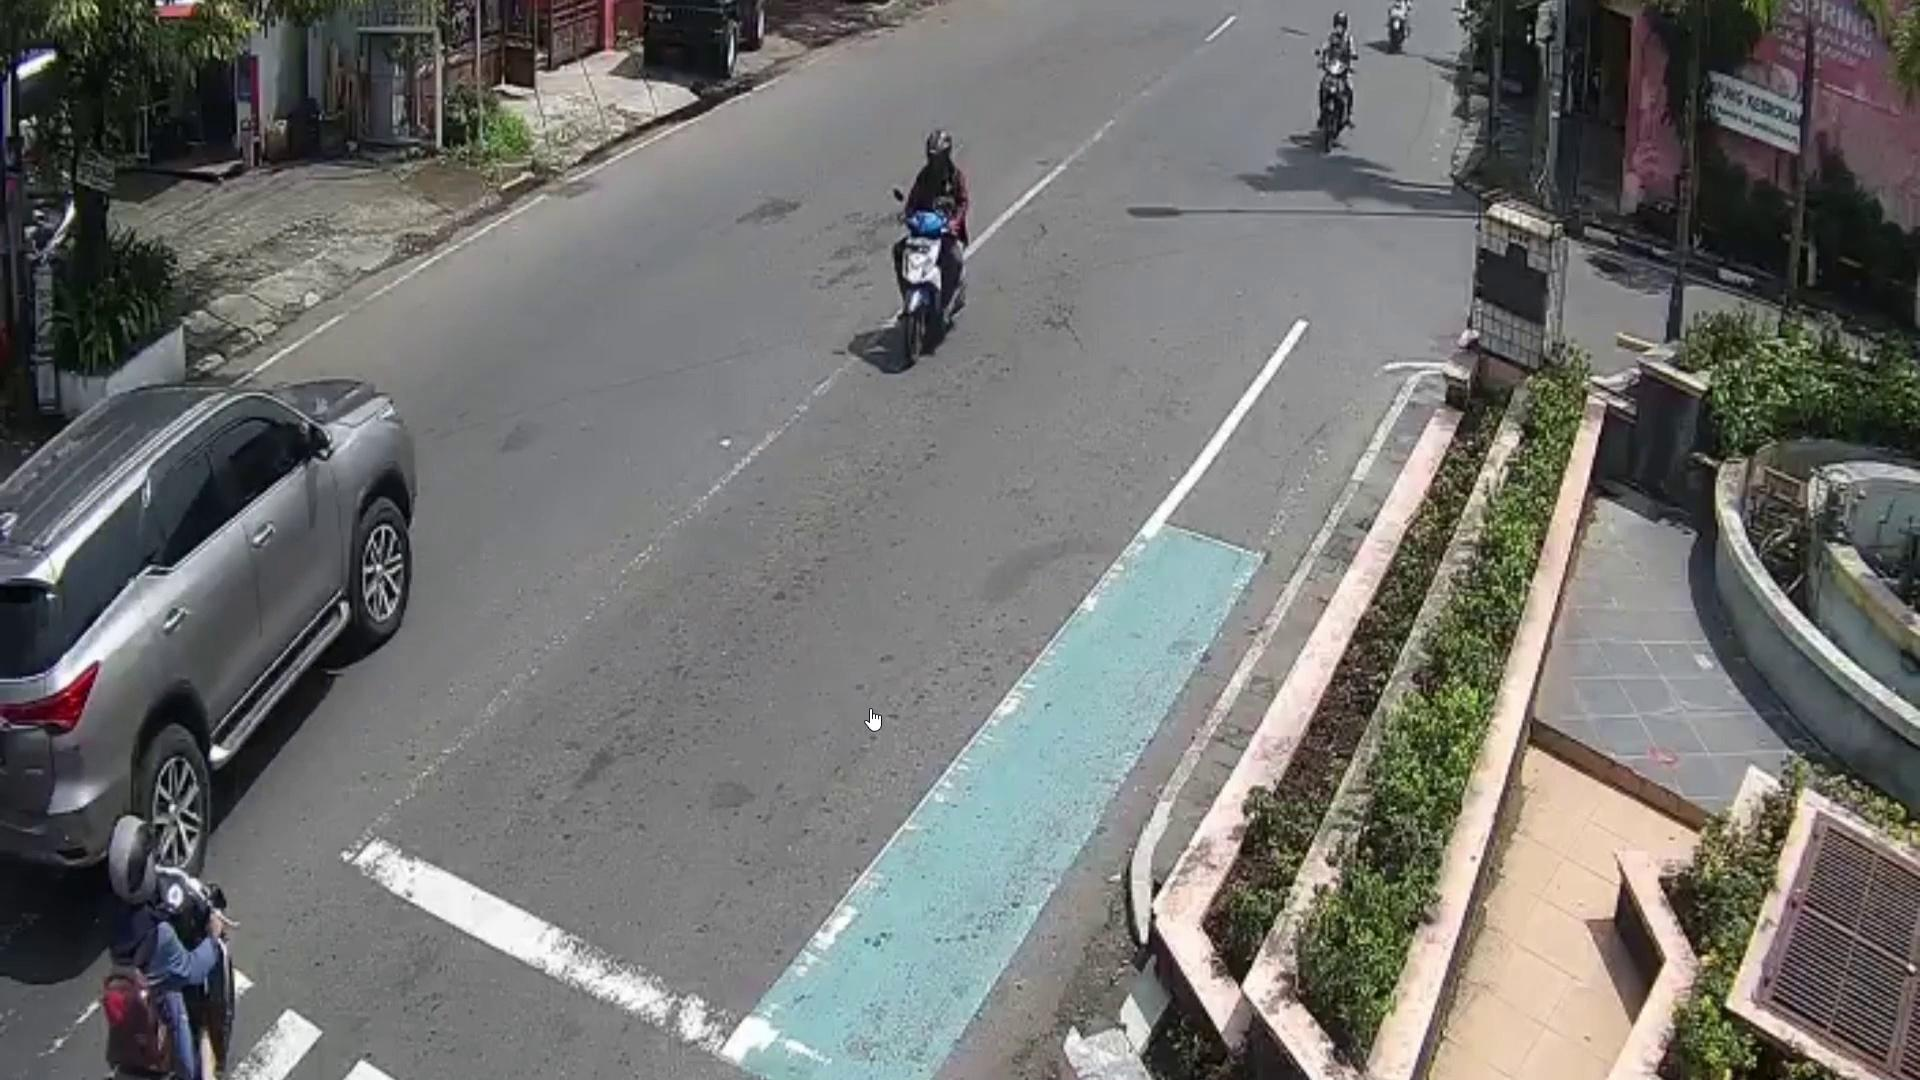car: (0, 381, 415, 890)
motorbike: (109, 864, 244, 1080), (897, 207, 965, 364), (1317, 53, 1357, 162)
